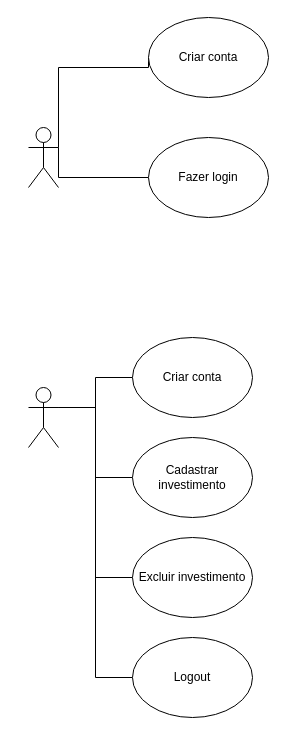
Image size: 286x735. Some labels were removed from this diagram. Here are the shapes that lost their labels. From the top down, the box of each, then its label:
(28, 126, 58, 188): Visitante
(28, 386, 58, 448): Investidor
